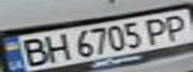0: (106, 21, 130, 52)
5: (121, 18, 148, 48)
6: (72, 27, 96, 57)
7: (90, 25, 112, 55)
B: (15, 35, 51, 68)
H: (39, 30, 72, 63)
P: (157, 11, 193, 40), (139, 16, 175, 44)
